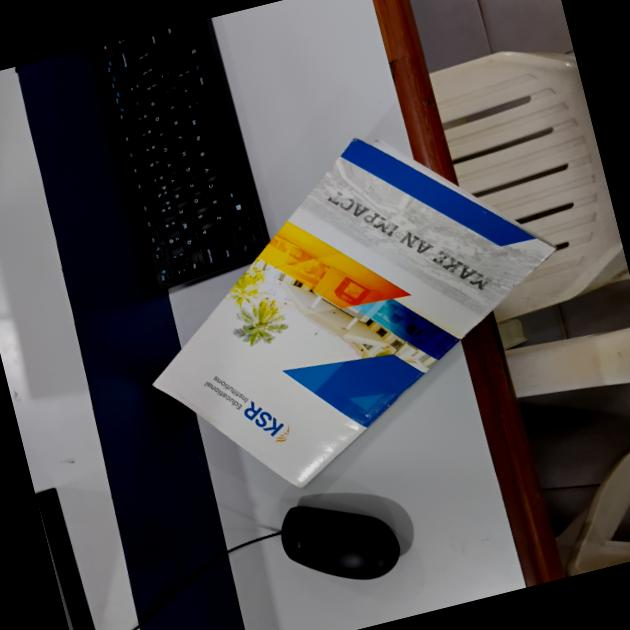keyboard: (78, 14, 278, 283)
mouse: (254, 478, 432, 608)
notebook: (118, 126, 593, 502)
